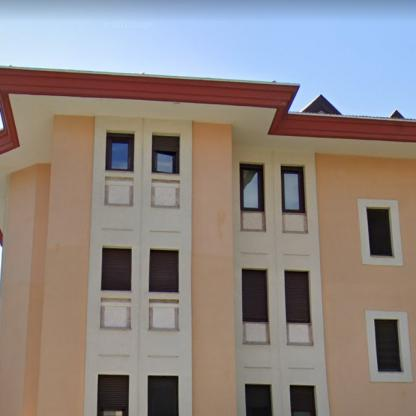window: (285, 272, 309, 320), (376, 320, 400, 368), (244, 272, 267, 320), (99, 376, 128, 414), (102, 250, 130, 288), (150, 377, 177, 414), (368, 211, 390, 255), (152, 253, 176, 290), (243, 168, 261, 209), (284, 171, 302, 211), (108, 138, 131, 168), (291, 387, 314, 415), (247, 386, 269, 415), (154, 150, 176, 172), (316, 109, 327, 114)
